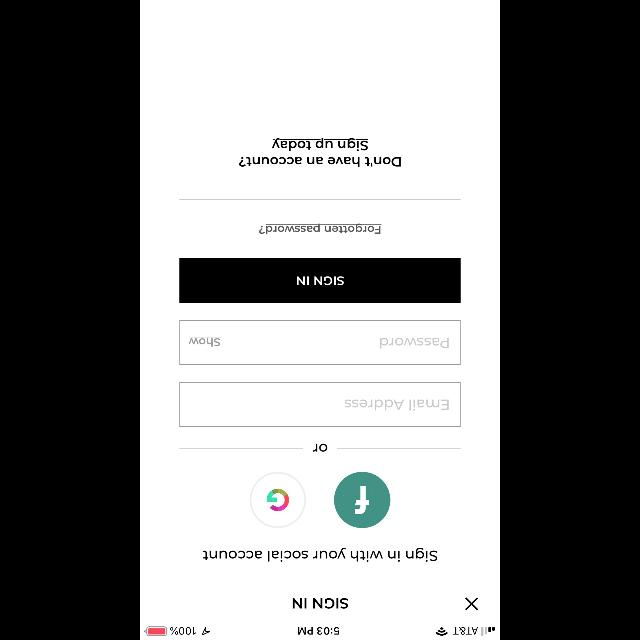icon: (334, 472, 390, 528), (250, 472, 306, 528), (464, 598, 478, 610)
input: (180, 320, 460, 364), (180, 382, 460, 426)
text: (239, 138, 401, 166), (203, 547, 437, 561), (259, 223, 381, 234), (345, 400, 449, 410), (379, 338, 448, 348), (292, 598, 348, 608), (188, 337, 220, 347), (313, 444, 327, 452)
textbutton: (180, 258, 460, 302)
uppertaskbar: (140, 626, 500, 640)
